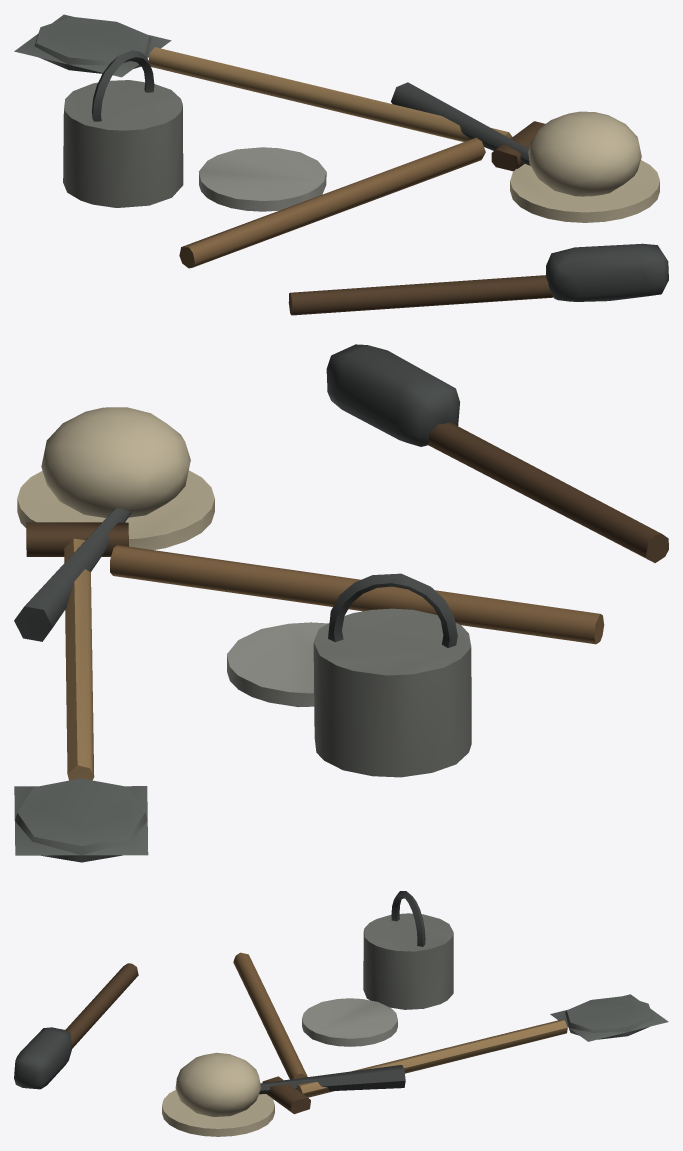
File: tool_drop_a_lod1.glb
3 renders of one model, top to bottom at view 1: azimuth 30°, elevation 25°; view 2: azimuth 150°, elevation 25°; view 3: azimuth 270°, elevation 25°, orthographic. The views are drawn at different scales.
Parts seen in each view (by area): view 1: Surface.001; view 2: Surface.001; view 3: Surface.001.
Part boxes in pixels (<box>): Surface.001: <box>14,14,668,315</box>; Surface.001: <box>14,344,668,862</box>; Surface.001: <box>14,891,668,1136</box>.
Bounding box in the file's own units: 1.35 × 0.3687 × 2.24.
